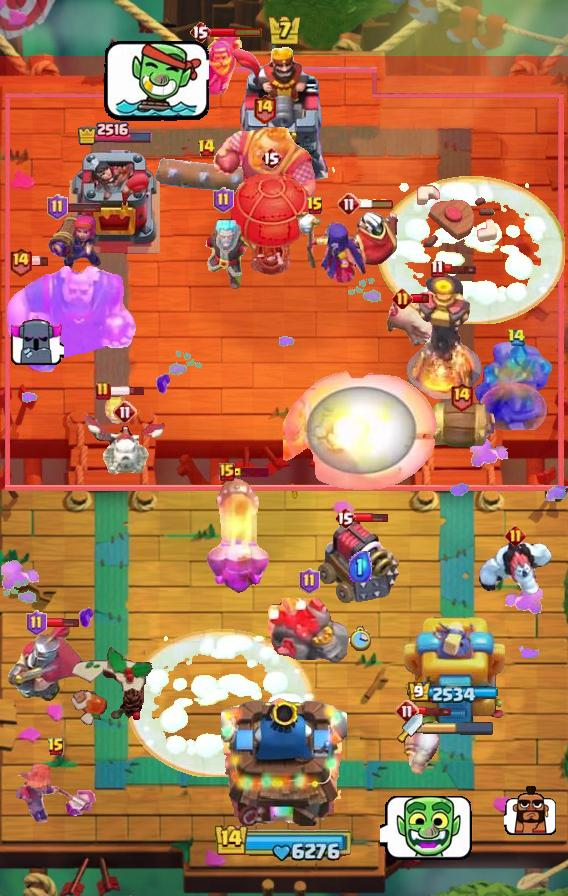axe: (292, 210, 368, 284)
bar: (401, 611, 505, 731)
cannon-cart: (229, 174, 313, 276)
cannoneer-tower: (471, 340, 561, 430), (268, 598, 350, 692)
clock: (214, 822, 354, 862)
electro-dragon: (406, 273, 484, 399)
electro-spirit: (349, 550, 372, 581)
elixir: (349, 626, 371, 652)
emote: (209, 26, 263, 38), (109, 385, 146, 397), (359, 198, 395, 210), (66, 201, 102, 213), (442, 263, 478, 275), (44, 617, 80, 629), (417, 705, 453, 717), (355, 512, 390, 524), (233, 467, 269, 477), (31, 257, 50, 268), (411, 292, 430, 303)
firecracker-evolution: (190, 29, 243, 94)
furnace: (205, 475, 273, 595)
giant: (385, 300, 443, 350)
giant-skeleton: (209, 124, 320, 226)
golem: (317, 515, 403, 607)
ice-spirit-evolution: (102, 388, 130, 424)
king-tower: (221, 690, 347, 826), (230, 45, 338, 181)
king-tower-bar: (423, 721, 495, 735)
lightning: (1, 263, 144, 377)
mega-minion: (45, 207, 101, 279)
mini-pekka: (79, 413, 171, 475)
minion: (156, 158, 256, 194)
mortar: (185, 217, 261, 293)
phoenix-big: (377, 176, 565, 324), (128, 629, 316, 777)
queen-tower: (64, 146, 164, 256)
rage: (476, 538, 554, 598)
selected: (409, 683, 500, 706), (75, 120, 152, 146)
skeleton: (101, 38, 209, 126), (380, 792, 476, 864), (504, 784, 558, 836), (8, 318, 64, 368)
skeleton-king: (330, 201, 402, 275)
tesla-evolution: (16, 761, 96, 828)
text: (252, 93, 277, 124), (7, 247, 32, 278), (449, 380, 474, 411), (337, 192, 361, 216), (113, 400, 137, 424), (395, 699, 419, 723), (213, 187, 234, 213), (48, 194, 69, 220), (300, 568, 321, 594), (25, 610, 46, 636), (189, 20, 211, 44), (260, 146, 282, 170), (334, 506, 356, 530), (392, 287, 413, 308), (506, 525, 527, 546), (196, 138, 216, 158), (306, 196, 324, 216), (47, 737, 65, 757), (507, 329, 526, 347), (95, 381, 111, 401), (219, 463, 235, 481), (431, 259, 446, 277)
the-log: (423, 401, 499, 451)
tombstone: (402, 715, 446, 777)
valkyrie: (283, 371, 439, 491)
wall-breaker-evolution: (8, 620, 94, 704)
